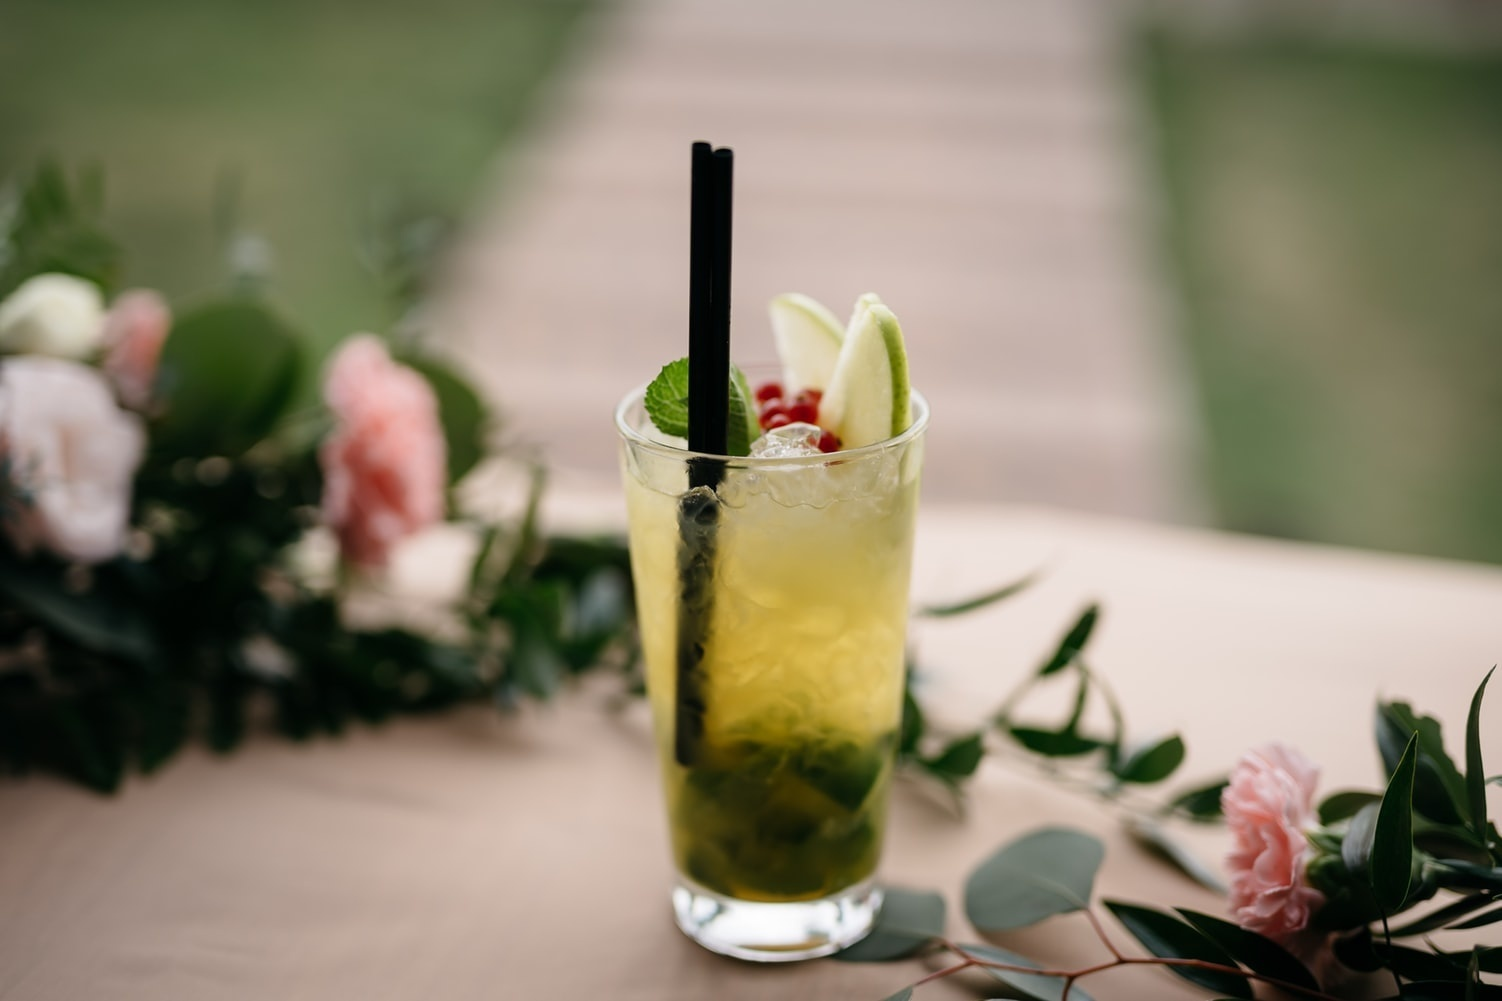whiskey: (630, 364, 913, 969)
